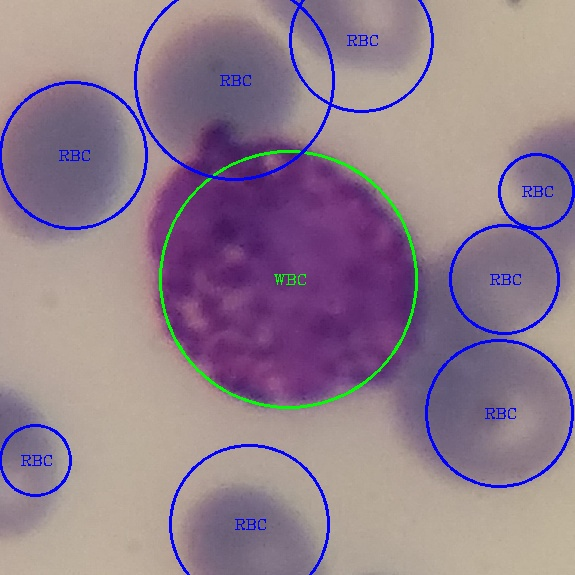RBC: (377, 329, 574, 513), (138, 3, 307, 167), (0, 63, 136, 253), (410, 209, 573, 355), (167, 474, 334, 572), (245, 0, 435, 79)
WBC: (135, 123, 425, 425)
